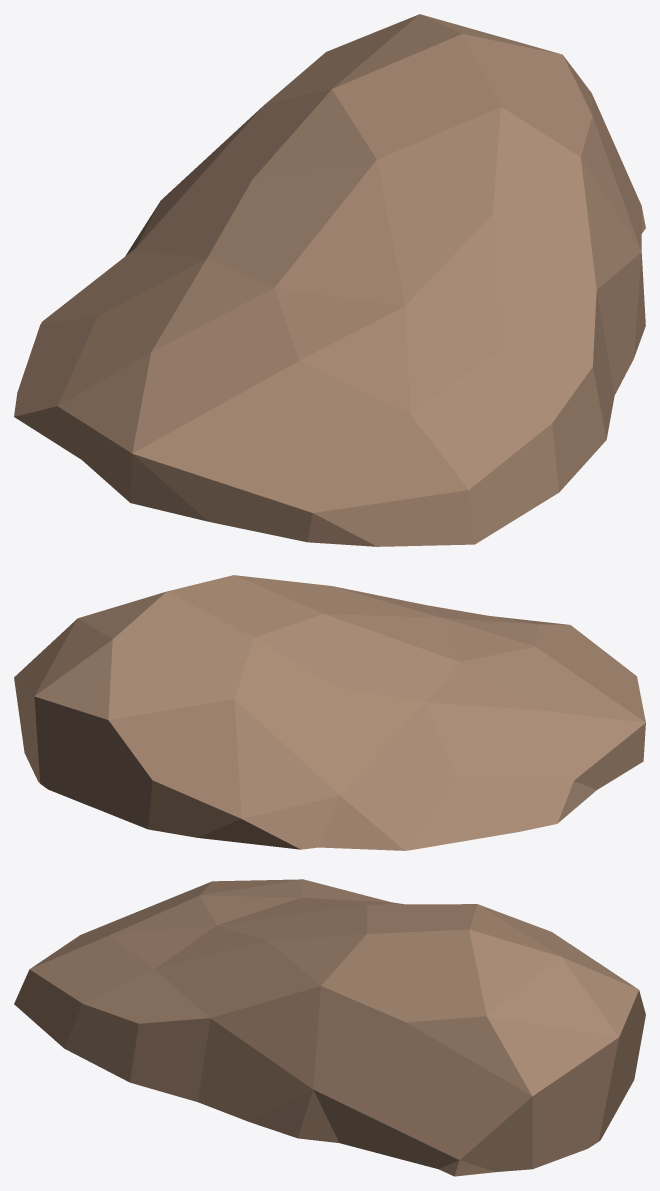
The model's file is Medium_Rocks.fbx.
3 views of the same model, one above another, from view 1: azimuth 30°, elevation 25°; view 2: azimuth 150°, elevation 25°; view 3: azimuth 270°, elevation 25° (orthographic). The views are drawn at different scales.
Parts seen in each view (by area): view 1: Medium Rocks; view 2: Medium Rocks; view 3: Medium Rocks.
Part boxes in pixels (x1=…): Medium Rocks: x1=14, y1=14, x2=645, y2=546; Medium Rocks: x1=14, y1=575, x2=645, y2=850; Medium Rocks: x1=14, y1=879, x2=645, y2=1176.
Size of the model in its own units: 28.16 by 9.31 by 29.41.
